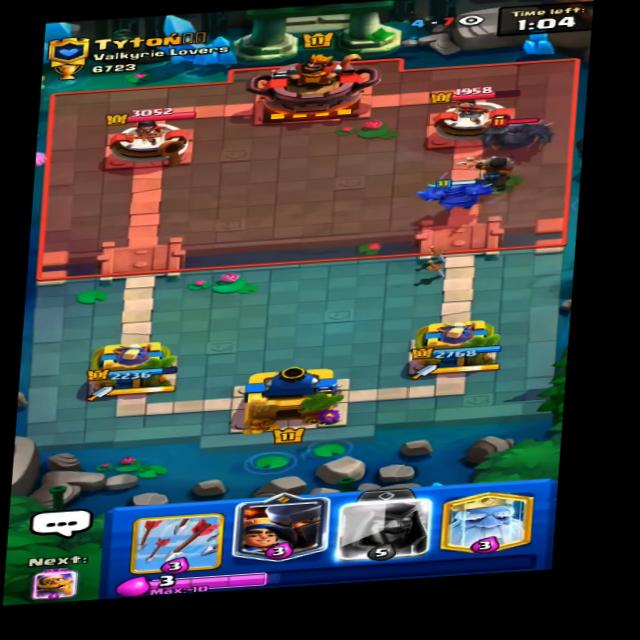pekka: (470, 105, 554, 159)
